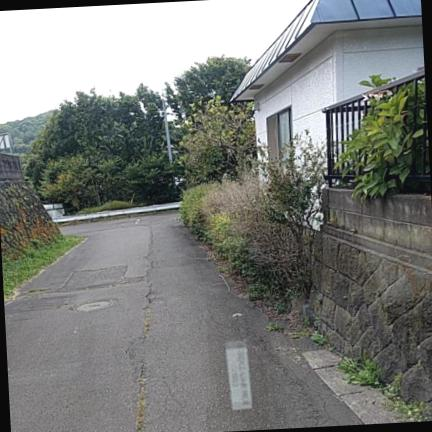Road: (4, 214, 359, 431)
